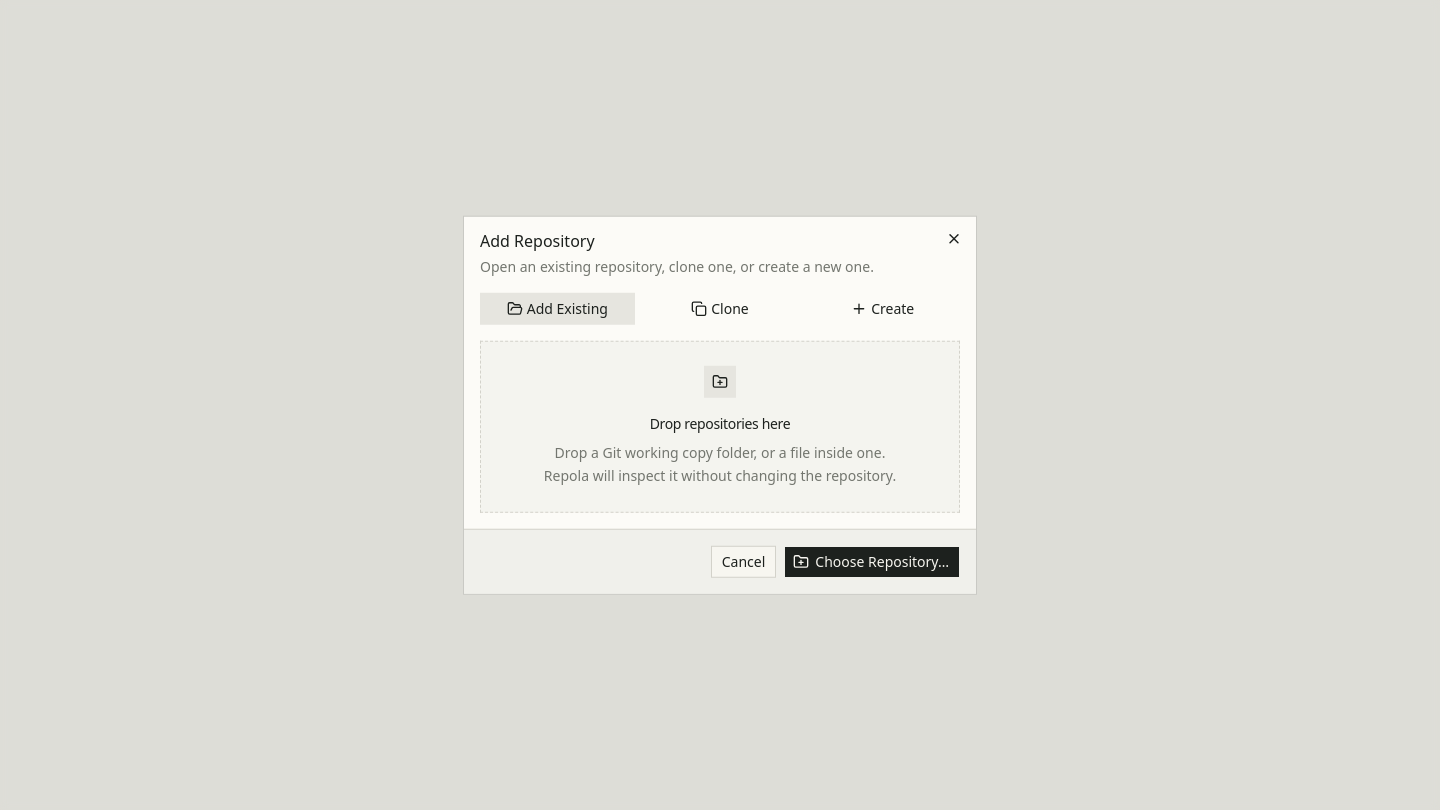
Test: RepositoryDialog › opens on the existing-repository flow with concise local copy
Expected: the heading "Add Repository" is shown, [480,230,595,252]
Expected: the button "Choose Repository…" is shown, [784,545,960,577]
Click the button "Clone" at [720, 309], box [643,293,797,325]
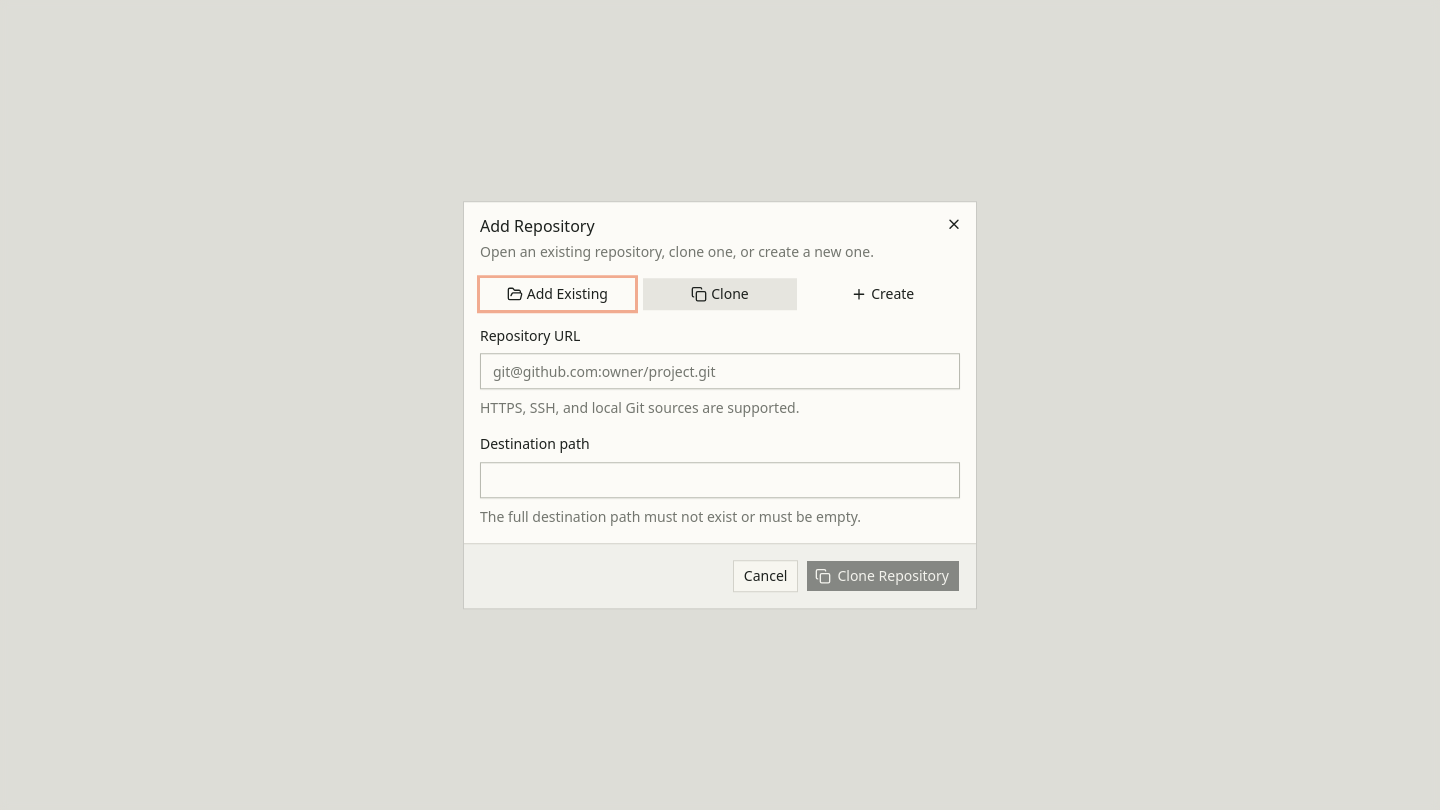
Now the field labelled "Repository URL" is shown, box [480,354,960,390]
